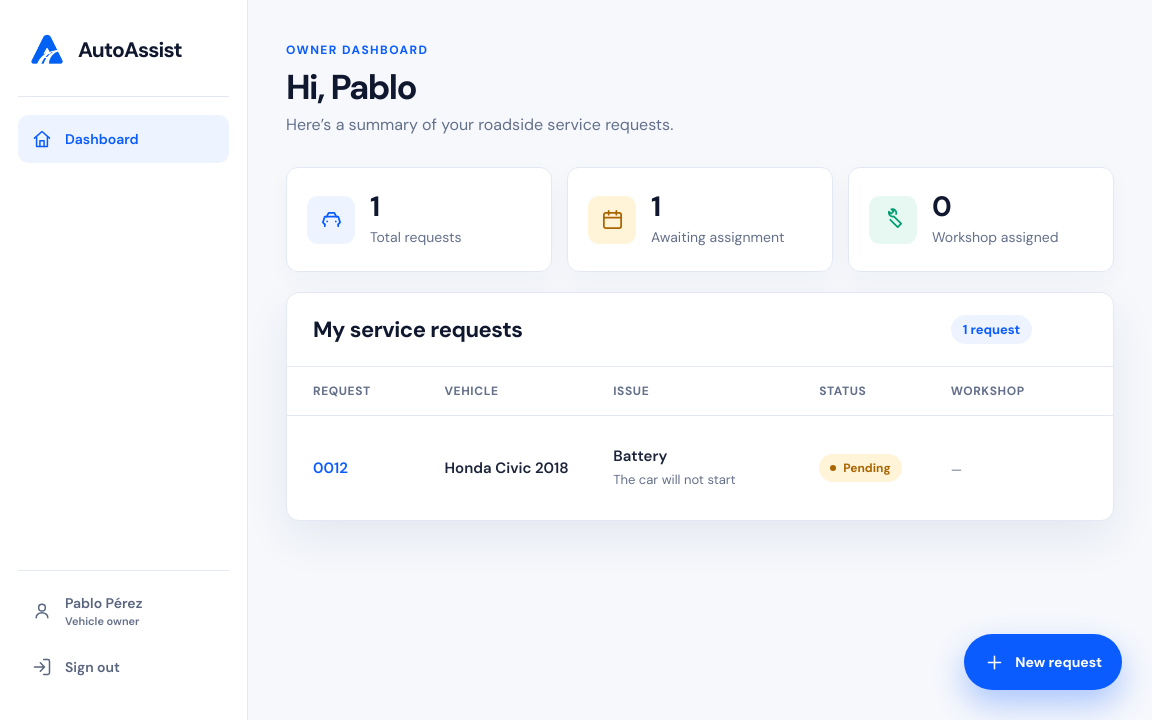
Test: Phase 4 frontend › renders an owner request list with its status
This screenshot has width=1152, height=720.
Check: the text "Honda Civic 2018" is shown, box [444,458,569,478]
Check: the text "0012" is shown, box [313,458,348,478]
Click the button with aria-label "Open profile" at coordinates (124, 611), box [18,587,229,635]
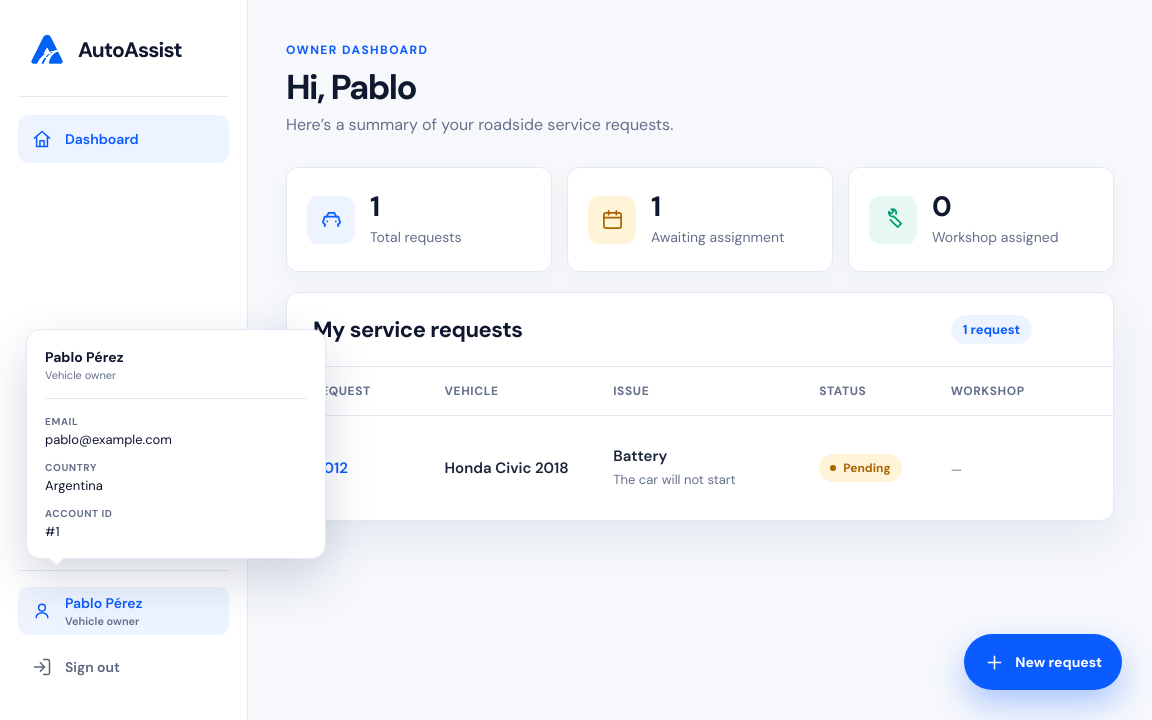
Check: the text "pablo@example.com" is shown, box [45,431,172,448]
Check: the text "Account ID" is shown, box [45,507,112,520]
